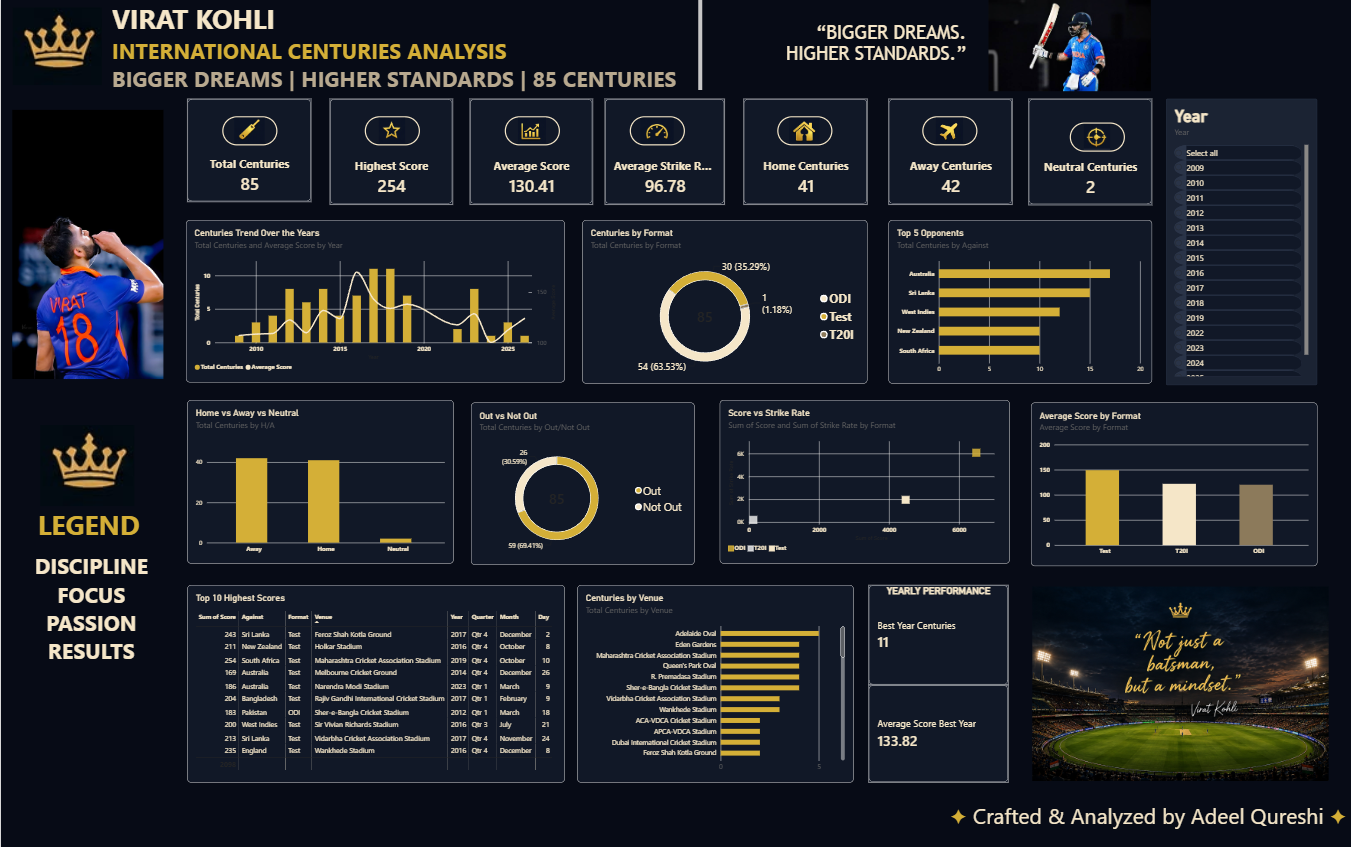

The page's visual inventory and layout, read from the dashboard file:
{"tool":"powerbi","page":{"name":"Page 1","canvas":[2700,1700],"ordinal":0},"visuals":[{"type":"cardVisual","fields":{"Data":["85_Centuries_of_Virat_Kohli_Complete.Total Centuries"]},"box":[371.7,198.3,248.3,206.7],"z":0},{"type":"cardVisual","fields":{"Data":["85_Centuries_of_Virat_Kohli_Complete.Highest Score"]},"box":[658.3,198.3,246.7,211.7],"z":1000},{"type":"cardVisual","fields":{"Data":["85_Centuries_of_Virat_Kohli_Complete.Average Score"]},"box":[938.3,198.3,246.7,211.7],"z":2000},{"type":"cardVisual","fields":{"Data":["85_Centuries_of_Virat_Kohli_Complete.Average Strike Rate"]},"box":[1208.3,198.3,240,211.7],"z":3000},{"type":"cardVisual","fields":{"Data":["85_Centuries_of_Virat_Kohli_Complete.Home Centuries"]},"box":[1485,198.3,248.3,211.7],"z":4000},{"type":"cardVisual","fields":{"Data":["85_Centuries_of_Virat_Kohli_Complete.Away Centuries"]},"box":[1775,198.3,248.3,211.7],"z":5000},{"type":"cardVisual","fields":{"Data":["85_Centuries_of_Virat_Kohli_Complete.Neutral Centuries"]},"box":[2055,197.5,247.5,212.5],"z":6000},{"type":"lineClusteredColumnComboChart","title":"Centuries Trend Over the Years","fields":{"Category":["85_Centuries_of_Virat_Kohli_Complete.Year"],"Y":["85_Centuries_of_Virat_Kohli_Complete.Total Centuries"],"Y2":["85_Centuries_of_Virat_Kohli_Complete.Average Score"]},"box":[370,440,757.5,325],"z":7000},{"type":"donutChart","title":"Centuries by Format","fields":{"Category":["85_Centuries_of_Virat_Kohli_Complete.Format"],"Y":["85_Centuries_of_Virat_Kohli_Complete.Total Centuries"]},"box":[1162.5,440,570,327.5],"z":8000},{"type":"clusteredBarChart","title":"Top 5 Opponents","fields":{"Category":["85_Centuries_of_Virat_Kohli_Complete.Against"],"Y":["85_Centuries_of_Virat_Kohli_Complete.Total Centuries"]},"box":[1775,440,527.5,327.5],"z":9000},{"type":"listSlicer","title":"Year","fields":{"Values":["85_Centuries_of_Virat_Kohli_Complete.Year"]},"box":[2330,197.5,302.5,572.5],"z":10000},{"type":"clusteredColumnChart","title":"Home vs Away vs Neutral","fields":{"Category":["85_Centuries_of_Virat_Kohli_Complete.H/A"],"Y":["85_Centuries_of_Virat_Kohli_Complete.Total Centuries"]},"box":[372.5,800,532.5,327.5],"z":11000},{"type":"donutChart","title":"Out vs Not Out","fields":{"Category":["85_Centuries_of_Virat_Kohli_Complete.Out/Not Out"],"Y":["85_Centuries_of_Virat_Kohli_Complete.Total Centuries"]},"box":[940,805,447.5,325],"z":12000},{"type":"scatterChart","title":"Score vs Strike Rate","fields":{"Series":["85_Centuries_of_Virat_Kohli_Complete.Format"],"X":["Sum(85_Centuries_of_Virat_Kohli_Complete.Score)"],"Y":["Sum(85_Centuries_of_Virat_Kohli_Complete.Strike Rate)"]},"box":[1437.5,800,580,327.5],"z":13000},{"type":"clusteredColumnChart","title":"Average Score by Format","fields":{"Category":["85_Centuries_of_Virat_Kohli_Complete.Format"],"Y":["85_Centuries_of_Virat_Kohli_Complete.Average Score"]},"box":[2060,805,572.5,327.5],"z":14000},{"type":"tableEx","title":"Top 10 Highest Scores","fields":{"Values":["Sum(Top10Scores.Score)","Top10Scores.Against","Top10Scores.Format","Top10Scores.Venue","Top10Scores.Date.Variation.Date Hierarchy.Year","Top10Scores.Date.Variation.Date Hierarchy.Quarter","Top10Scores.Date.Variation.Date Hierarchy.Month","Top10Scores.Date.Variation.Date Hierarchy.Day"]},"box":[372.5,1170,755,395],"z":15000},{"type":"clusteredBarChart","title":"Centuries by Venue","fields":{"Category":["85_Centuries_of_Virat_Kohli_Complete.Venue"],"Y":["85_Centuries_of_Virat_Kohli_Complete.Total Centuries"]},"box":[1152.5,1170,552.5,395],"z":16000},{"type":"cardVisual","fields":{"Data":["85_Centuries_of_Virat_Kohli_Complete.Best Year Centuries"]},"box":[1735,1170,280,200],"z":17000},{"type":"cardVisual","fields":{"Data":["85_Centuries_of_Virat_Kohli_Complete.Average Score Best Year"]},"box":[1735,1370,280,195],"z":18000},{"type":"textbox","title":"YEARLY PERFORMANCE","box":[1734.4,1168.8,280,32.5],"z":19000},{"type":"textbox","title":"VIRAT KOHLI","box":[222.5,0,1180,182.5],"z":20000},{"type":"image","box":[22.5,15,180,155],"z":21000},{"type":"image","box":[22.5,212.5,302.5,552.5],"z":22000},{"type":"textbox","box":[1405,42.5,525,140],"z":23000},{"type":"image","box":[1915,0,445,182.5],"z":24000},{"type":"textbox","box":[37.5,1012.5,275,405],"z":25000},{"type":"image","box":[62.5,850,220,162.5],"z":26000},{"type":"image","box":[2062.5,1170,592.5,395],"z":27000},{"type":"image","box":[441.7,231.7,110,58.3],"z":28000},{"type":"image","box":[726.7,231.7,110,58.3],"z":29000},{"type":"image","box":[1258.3,231.7,110,58],"z":30000},{"type":"image","box":[1553.3,231.7,110,58],"z":31000},{"type":"image","box":[1843.3,231.7,110,58],"z":32000},{"type":"image","box":[2138.3,245,110,58],"z":33000},{"type":"image","box":[1006.7,231.7,110,58],"z":34000},{"type":"textbox","box":[1897.5,1602.5,802.5,72.5],"z":35000}]}

Visuals, with their boxes in screenshot pixels (x1, y1, x2, y2), scaled from the page's 2700x1700 canvas onto the 1351x847 screenshot:
cardVisual - 85_Centuries_of_Virat_Kohli_Complete.Total Centuries: 186 99 310 202
cardVisual - 85_Centuries_of_Virat_Kohli_Complete.Highest Score: 329 99 453 204
cardVisual - 85_Centuries_of_Virat_Kohli_Complete.Average Score: 469 99 593 204
cardVisual - 85_Centuries_of_Virat_Kohli_Complete.Average Strike Rate: 605 99 725 204
cardVisual - 85_Centuries_of_Virat_Kohli_Complete.Home Centuries: 743 99 867 204
cardVisual - 85_Centuries_of_Virat_Kohli_Complete.Away Centuries: 888 99 1012 204
cardVisual - 85_Centuries_of_Virat_Kohli_Complete.Neutral Centuries: 1028 98 1152 204
"Centuries Trend Over the Years" lineClusteredColumnComboChart: 185 219 564 381
"Centuries by Format" donutChart: 582 219 867 382
"Top 5 Opponents" clusteredBarChart: 888 219 1152 382
"Year" listSlicer: 1166 98 1317 384
"Home vs Away vs Neutral" clusteredColumnChart: 186 399 453 562
"Out vs Not Out" donutChart: 470 401 694 563
"Score vs Strike Rate" scatterChart: 719 399 1009 562
"Average Score by Format" clusteredColumnChart: 1031 401 1317 564
"Top 10 Highest Scores" tableEx: 186 583 564 780
"Centuries by Venue" clusteredBarChart: 577 583 853 780
cardVisual - 85_Centuries_of_Virat_Kohli_Complete.Best Year Centuries: 868 583 1008 683
cardVisual - 85_Centuries_of_Virat_Kohli_Complete.Average Score Best Year: 868 683 1008 780
"YEARLY PERFORMANCE" textbox: 868 582 1008 599
"VIRAT KOHLI" textbox: 111 0 702 91
image: 11 7 101 85
image: 11 106 163 381
textbox: 703 21 966 91
image: 958 0 1181 91
textbox: 19 504 156 706
image: 31 424 141 504
image: 1032 583 1328 780
image: 221 115 276 144
image: 364 115 419 144
image: 630 115 685 144
image: 777 115 832 144
image: 922 115 977 144
image: 1070 122 1125 151
image: 504 115 559 144
textbox: 949 798 1350 835
